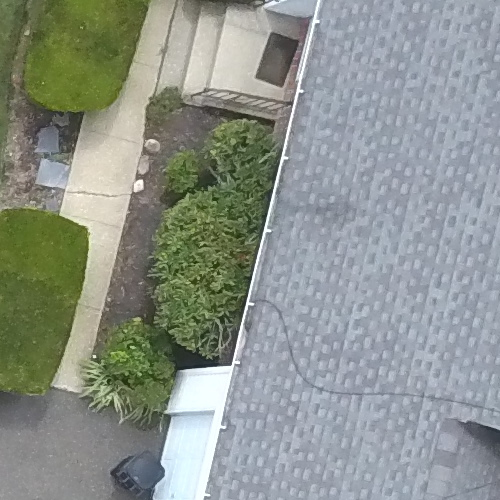trash bin: (105, 431, 179, 498)
